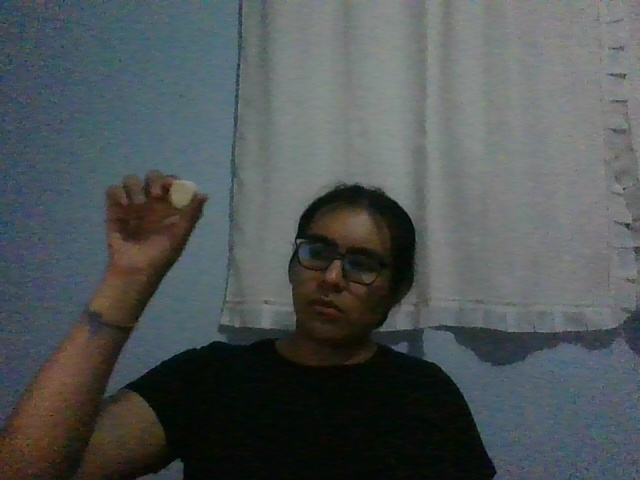goma: (170, 180, 197, 209)
